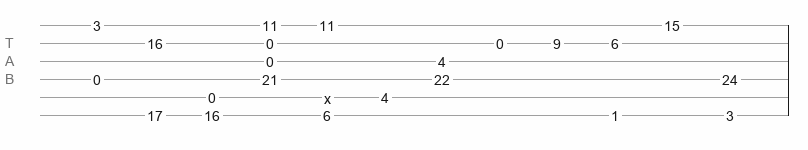0: (93, 72, 101, 82), (208, 90, 216, 100), (266, 54, 274, 64), (266, 36, 274, 46), (496, 36, 504, 46)
1: (611, 108, 619, 118)
11: (262, 18, 278, 28), (319, 18, 335, 28)
15: (664, 18, 680, 28)
16: (147, 36, 163, 46), (204, 108, 220, 118)
17: (147, 108, 163, 118)
21: (262, 72, 278, 82)
22: (434, 72, 450, 82)
24: (722, 72, 738, 82)
3: (93, 18, 101, 28), (726, 108, 734, 118)
4: (381, 90, 389, 100), (438, 54, 446, 64)
6: (323, 108, 331, 118), (611, 36, 619, 46)
9: (553, 36, 561, 46)
x: (324, 91, 331, 99)
